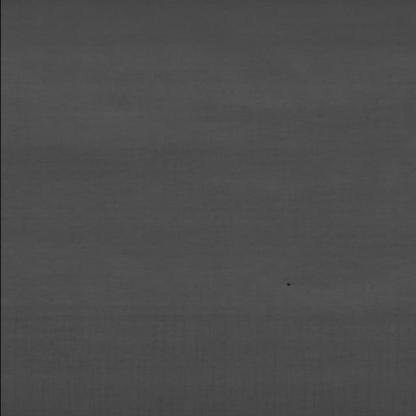inclusion: (272, 271, 303, 295)
